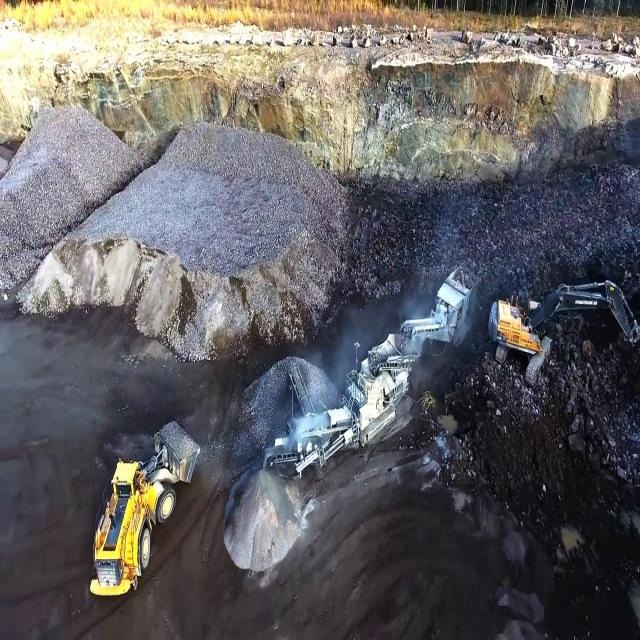Excavator: (486, 278, 640, 387)
Loader: (86, 414, 202, 598)
